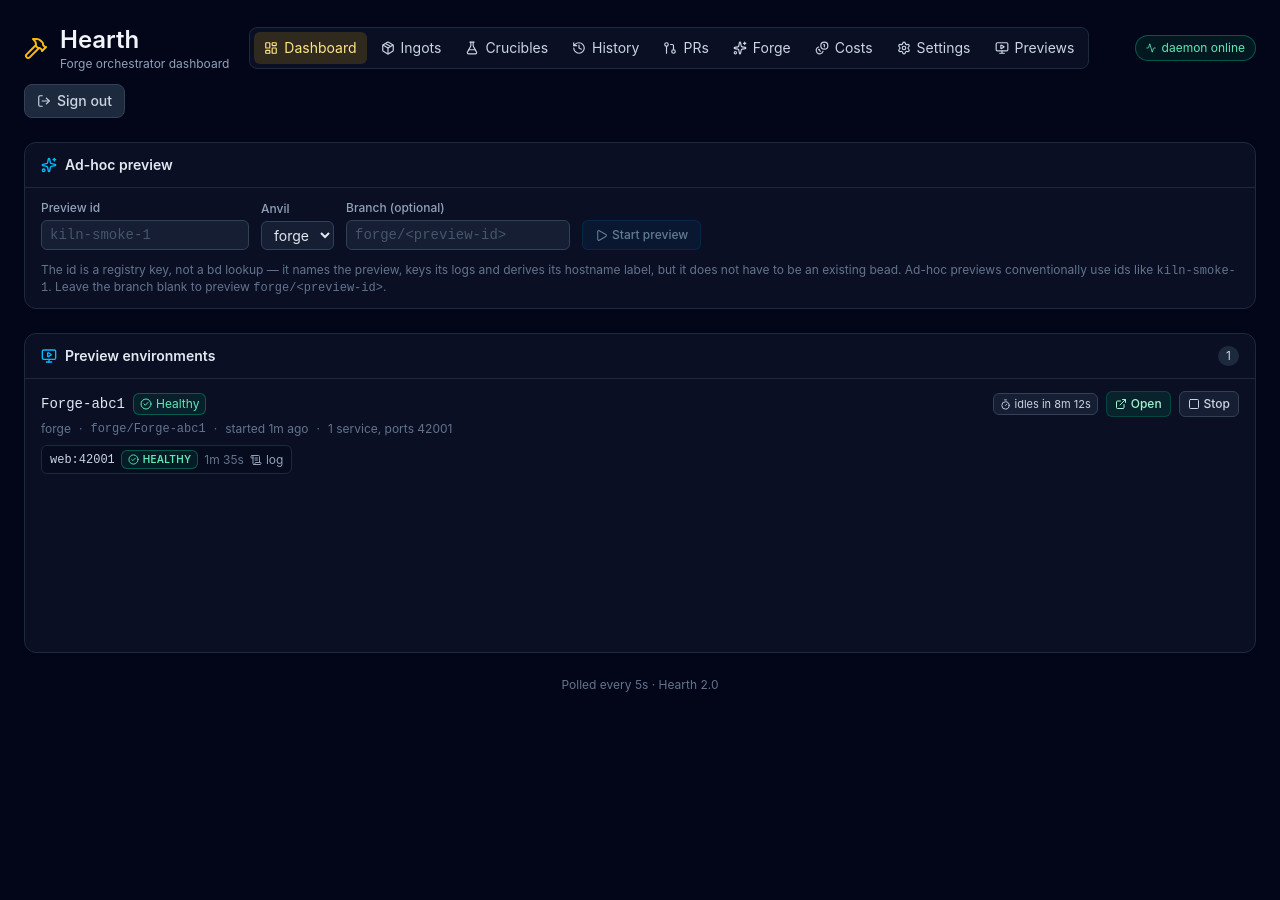
it: PreviewsPage ad-hoc preview form › rejects an id the bead-id route would refuse, without asking the daemon
The image size is (1280, 900).
Type "kiln smoke/1" into the field with test id "adhoc-preview-id" at point(145, 235), box [41,220,249,250]
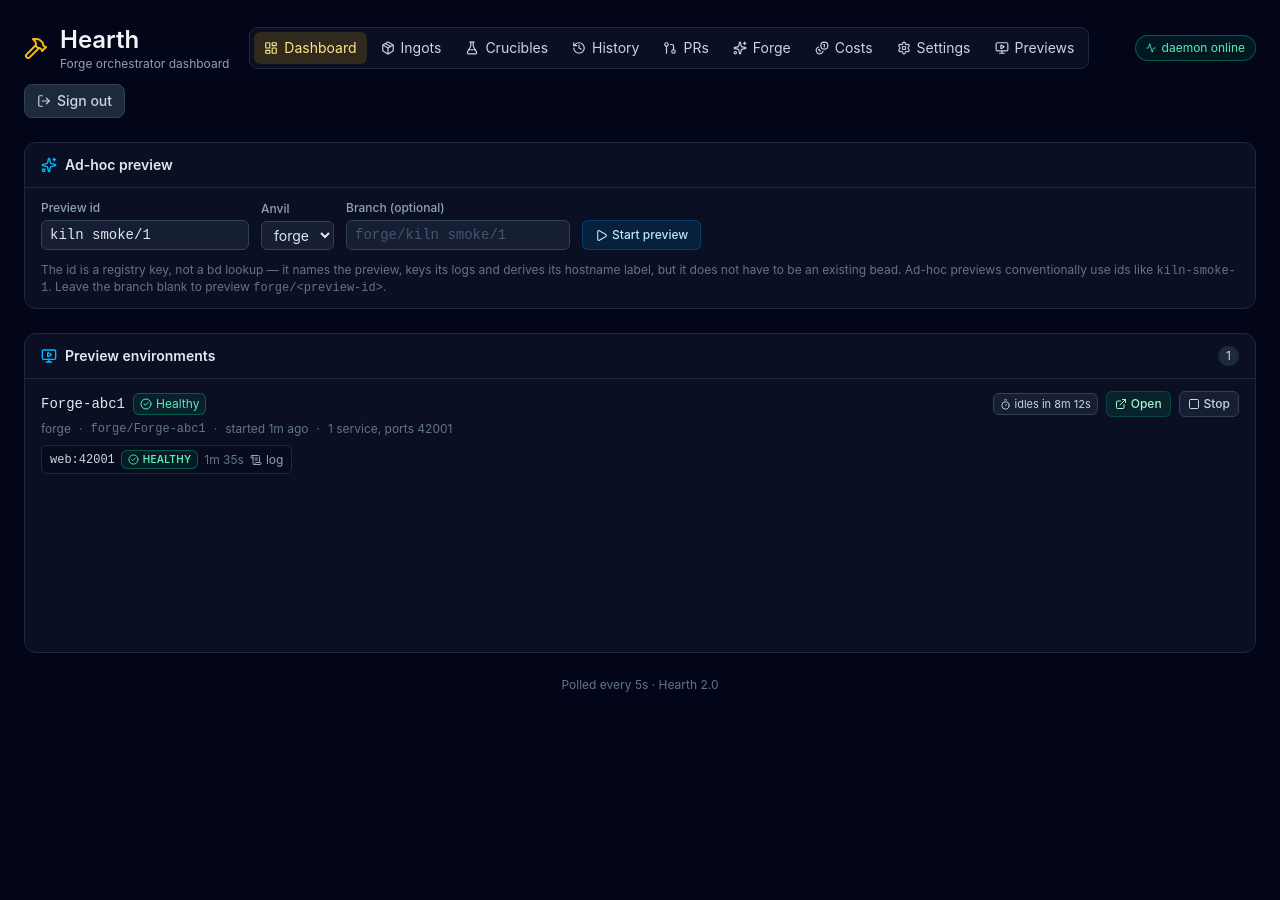
Click the button with test id "adhoc-preview-submit" at point(642, 235), box [582,220,701,250]
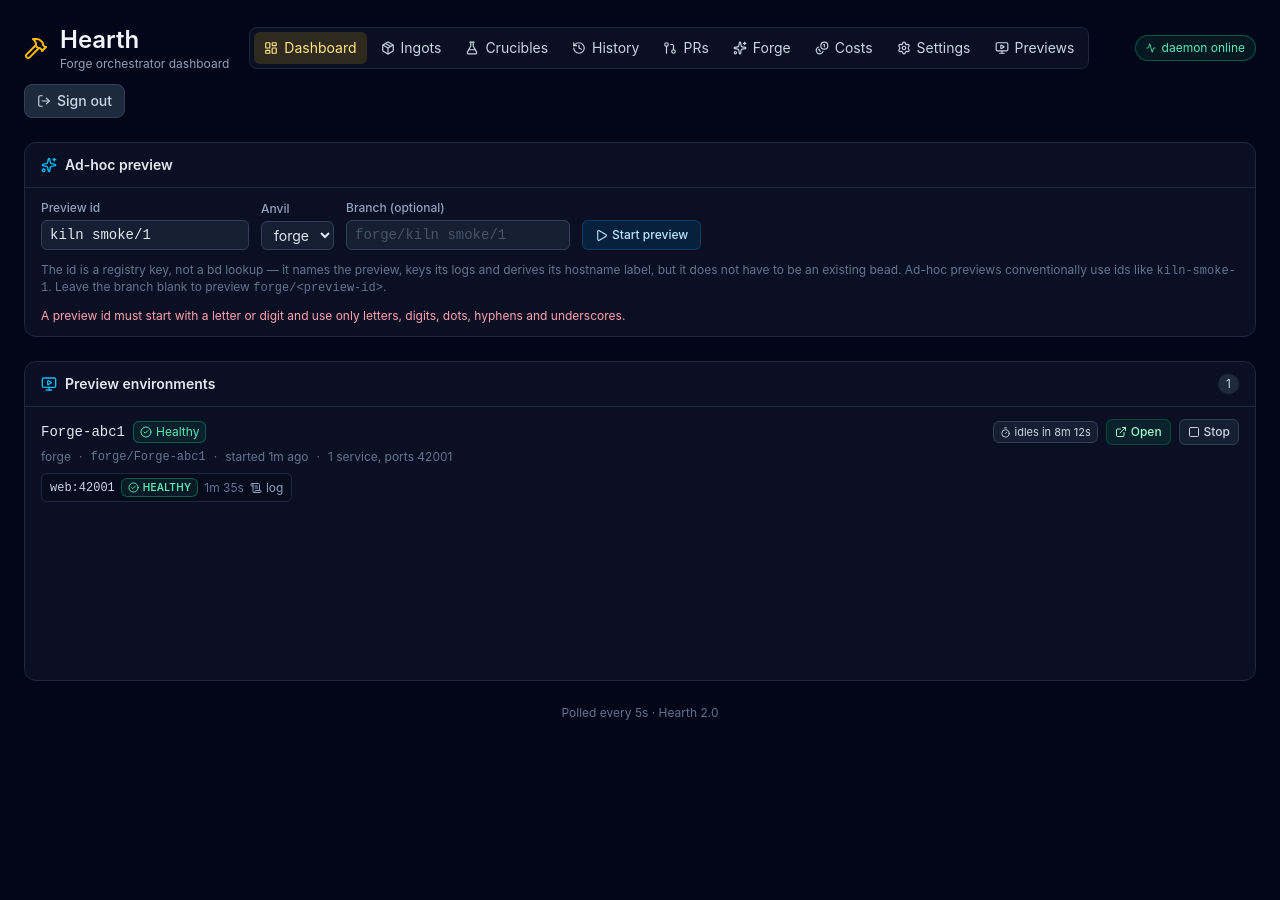
Check: the message with test id "adhoc-preview-error" shows "must start with a letter", box [41,308,625,323]
